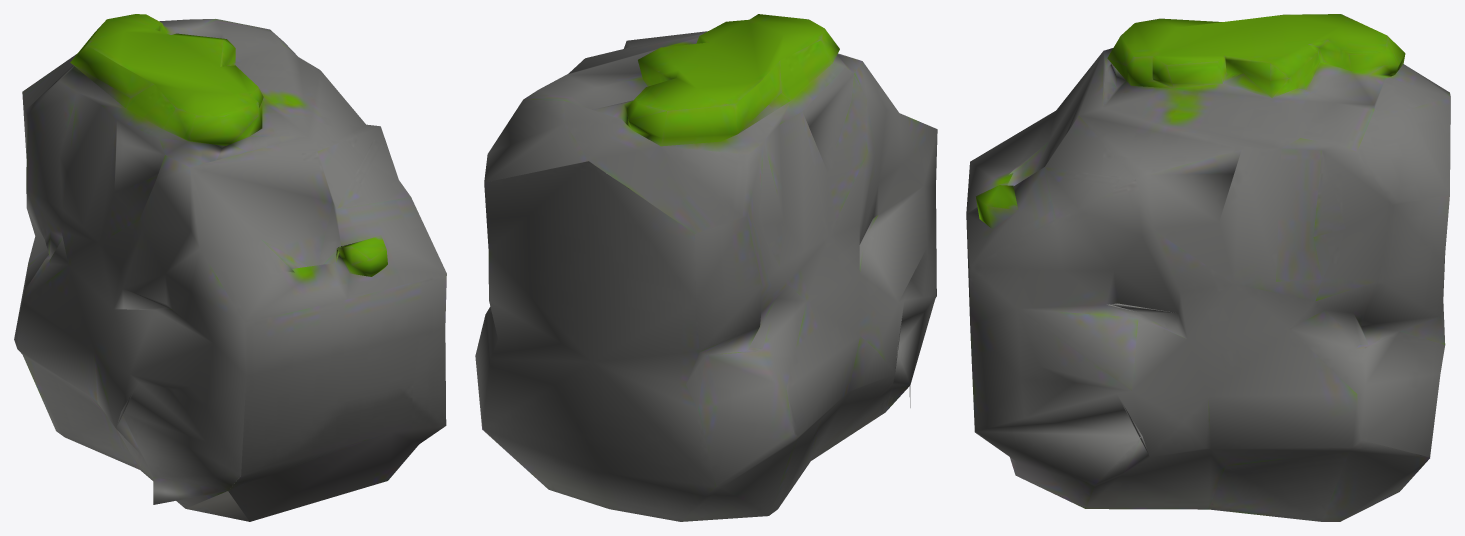
File: rock.glb
3 views of the same model, side by side, from view 1: azimuth 30°, elevation 25°; view 2: azimuth 150°, elevation 25°; view 3: azimuth 270°, elevation 25° (orthographic). The views are drawn at different scales.
Visible parts, largest first — view 1: tripo_node_b593ee64-7d96-4cec-8974-f6474eeabef8; view 2: tripo_node_b593ee64-7d96-4cec-8974-f6474eeabef8; view 3: tripo_node_b593ee64-7d96-4cec-8974-f6474eeabef8.
Part boxes in pixels (x1,y1,x2,y2): tripo_node_b593ee64-7d96-4cec-8974-f6474eeabef8: [14, 14, 446, 521]; tripo_node_b593ee64-7d96-4cec-8974-f6474eeabef8: [475, 14, 937, 521]; tripo_node_b593ee64-7d96-4cec-8974-f6474eeabef8: [966, 14, 1450, 521].
Bounding box in the file's own units: 0.7613 × 0.9335 × 1.
1 material, 1 textured.
